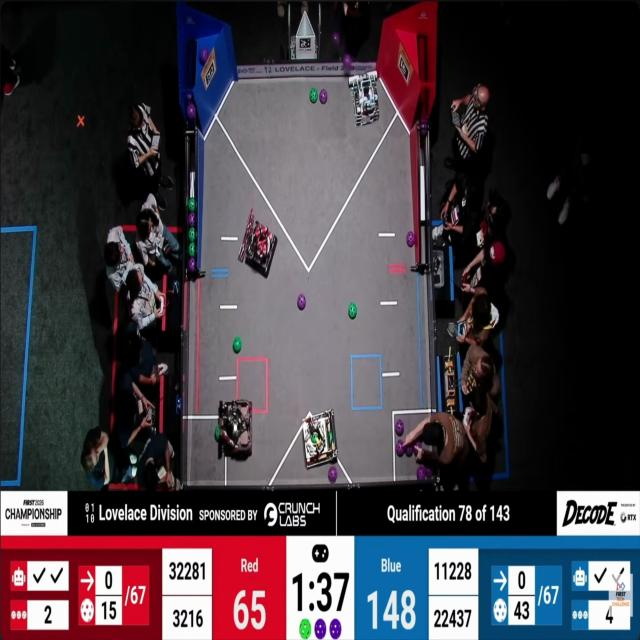artifact_green: (300, 619, 311, 639), (233, 337, 242, 353), (348, 303, 357, 319), (310, 88, 318, 103), (188, 213, 195, 226), (188, 198, 195, 211), (189, 242, 195, 257), (311, 432, 318, 444), (189, 228, 195, 242), (215, 425, 220, 441), (328, 432, 333, 445)
artifact_purple: (315, 619, 326, 639), (330, 619, 341, 639), (187, 102, 196, 120), (328, 467, 337, 483), (395, 419, 403, 436), (343, 55, 352, 70), (407, 231, 415, 247), (200, 49, 208, 64), (396, 441, 404, 456), (417, 467, 426, 480), (298, 294, 305, 310), (405, 445, 414, 457), (320, 90, 327, 104), (420, 121, 428, 133), (333, 32, 340, 44), (425, 468, 433, 478), (189, 258, 195, 271), (189, 213, 195, 226), (185, 93, 193, 102), (414, 442, 421, 451), (365, 89, 369, 98)
